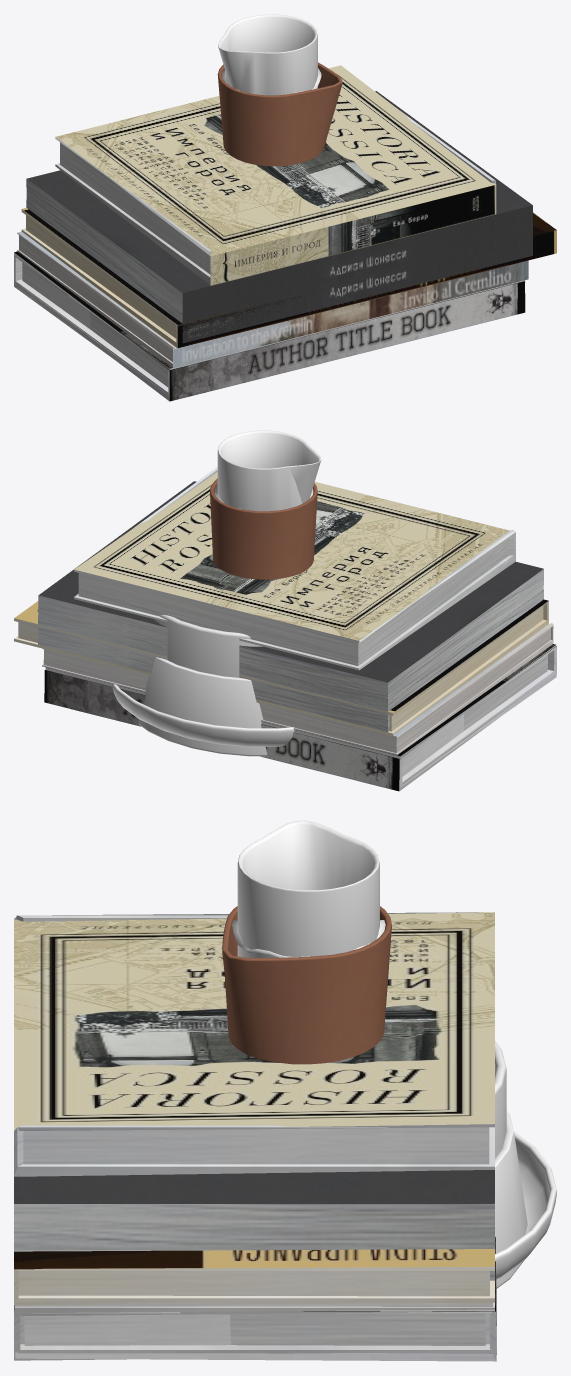
Rendered from Props_1.glb.
3 views of the same model, one above another, from view 1: azimuth 30°, elevation 25°; view 2: azimuth 150°, elevation 25°; view 3: azimuth 270°, elevation 25° (orthographic). The views are drawn at different scales.
Visible parts, largest first — view 1: Cube.008, Cube.009, Cylinder.004, Cylinder.005; view 2: Cube.008, Cube.009, Cylinder.004, Cylinder.005, Cylinder.003, Cylinder.001, Cylinder.002; view 3: Cube.008, Cylinder.004, Cylinder.005, Cube.009, Cylinder.002, Cylinder.003, Cylinder.001.
Part boxes in pixels (box(x1,y1,x2,y2)): Cube.008: box(14, 65, 556, 401); Cube.009: box(14, 199, 532, 391); Cylinder.004: box(217, 62, 342, 166); Cylinder.005: box(218, 14, 317, 95); Cube.008: box(14, 467, 556, 787); Cube.009: box(38, 590, 556, 791); Cylinder.004: box(210, 478, 317, 579); Cylinder.005: box(217, 430, 321, 511); Cylinder.003: box(138, 657, 267, 756); Cylinder.001: box(154, 614, 262, 677); Cylinder.002: box(112, 684, 294, 746); Cube.008: box(14, 912, 494, 1360); Cylinder.004: box(222, 906, 391, 1064); Cylinder.005: box(237, 820, 379, 957); Cube.009: box(14, 1237, 496, 1361); Cylinder.002: box(495, 1132, 556, 1279); Cylinder.003: box(495, 1110, 527, 1288); Cylinder.001: box(495, 1041, 506, 1157).
Bounding box in the file's own units: 0.3572 × 0.2199 × 0.2812.
Materials: 14 (7 with a texture image).
